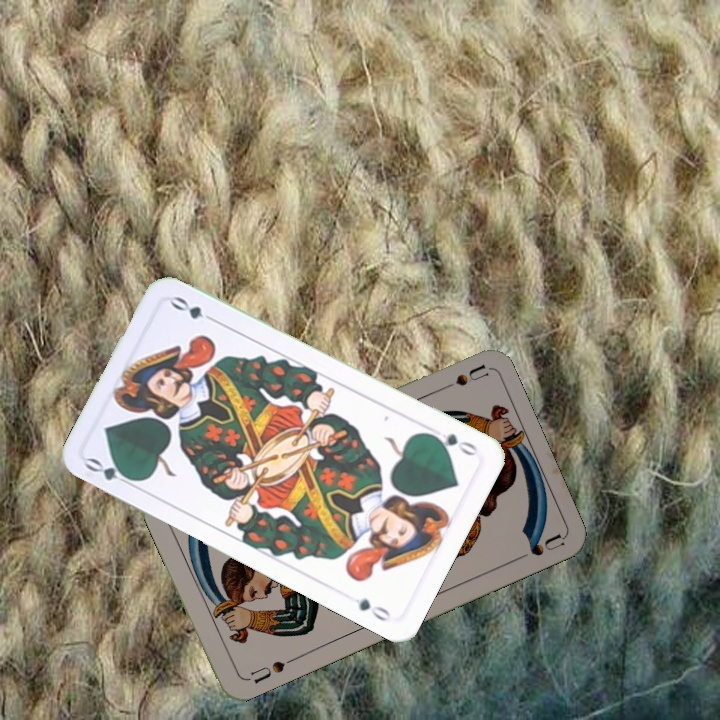GO: (81, 453, 140, 490), (424, 429, 480, 459)
SU: (431, 361, 489, 395), (242, 653, 298, 686)
